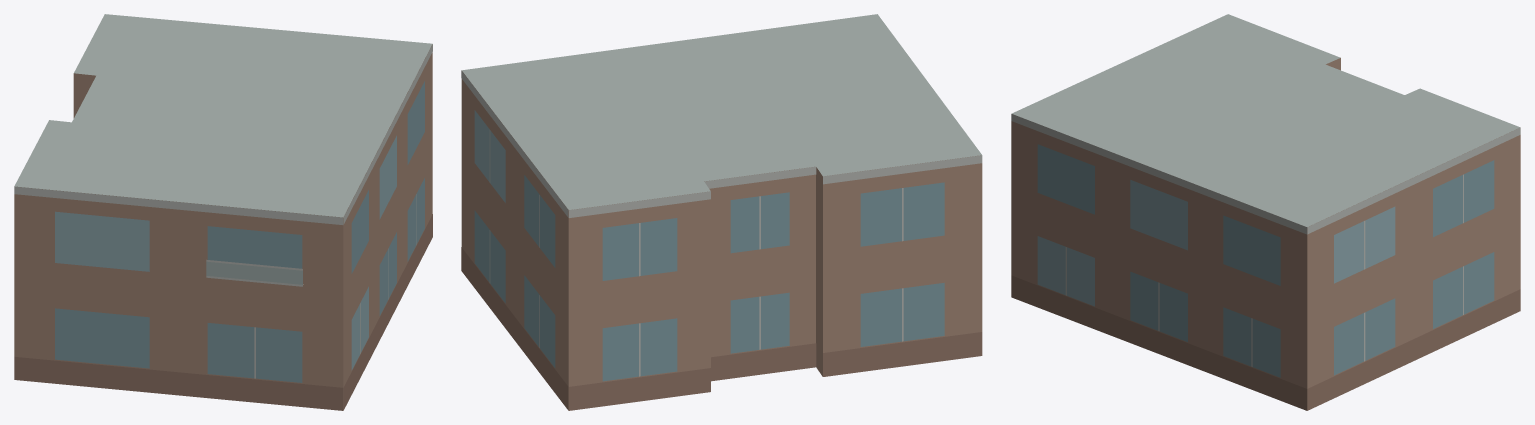
File: survey-upis-32686922.glb
3 views of the same model, side by side, from view 1: azimuth 30°, elevation 25°; view 2: azimuth 150°, elevation 25°; view 3: azimuth 270°, elevation 25° (orthographic). The views are drawn at different scales.
Parts seen in each view (by area): view 1: survey-upis-32686922.tmp; view 2: survey-upis-32686922.tmp; view 3: survey-upis-32686922.tmp.
Boxes of the visible parts, x1,y1,x2,y2 form: survey-upis-32686922.tmp: [14, 14, 432, 410]; survey-upis-32686922.tmp: [461, 14, 982, 410]; survey-upis-32686922.tmp: [1011, 14, 1520, 410].
Size of the model in its own units: 15.2 by 6.1 by 15.34.
